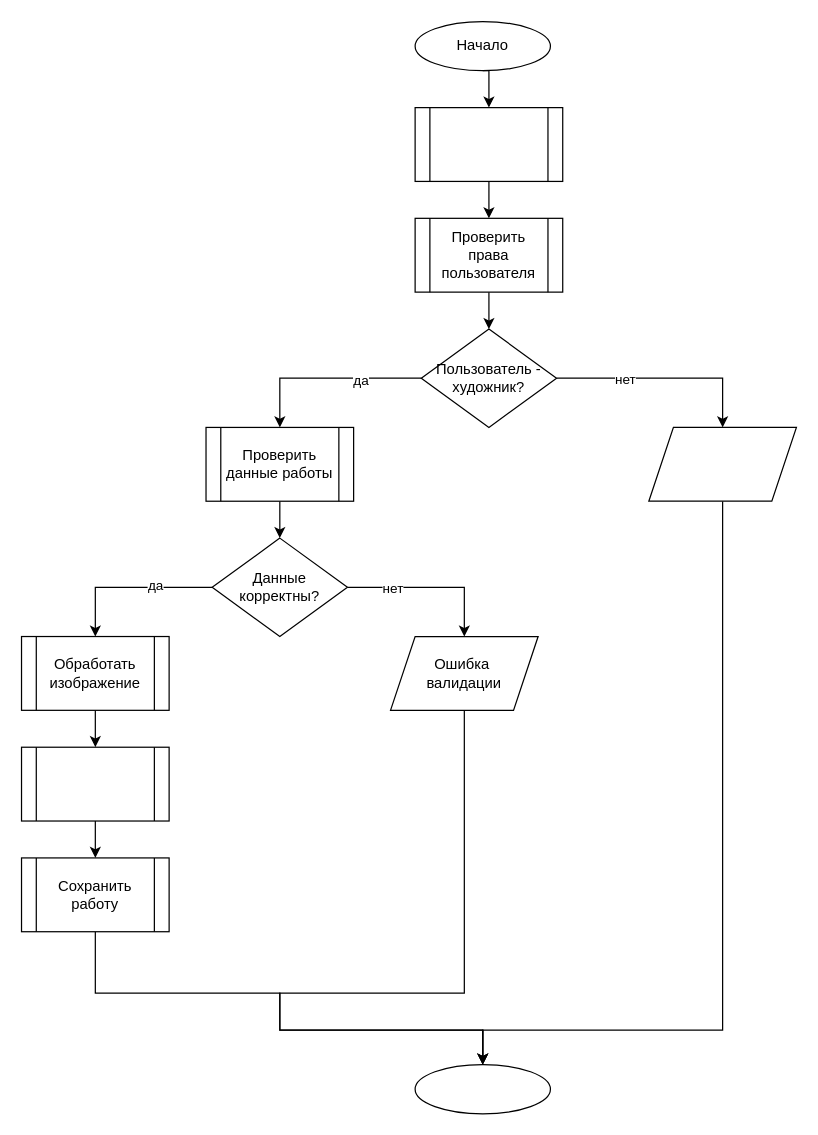
This 818x1135 diagram has some shape labels left out. Each missing label, with the centre of its shape:
"Конец" belongs at pixel 482 1088.
"Ошибка доступа" belongs at pixel 722 463.
"Получить запрос на создание работы" belongs at pixel 488 143.
"Создать превью с водяным знаком" belongs at pixel 94 783.
